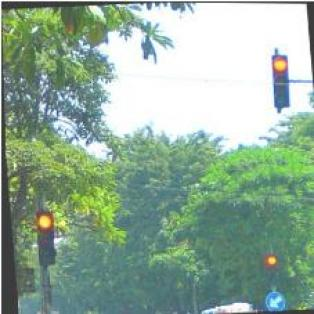Semaforo Rojo: (271, 54, 293, 108), (33, 212, 53, 266)
